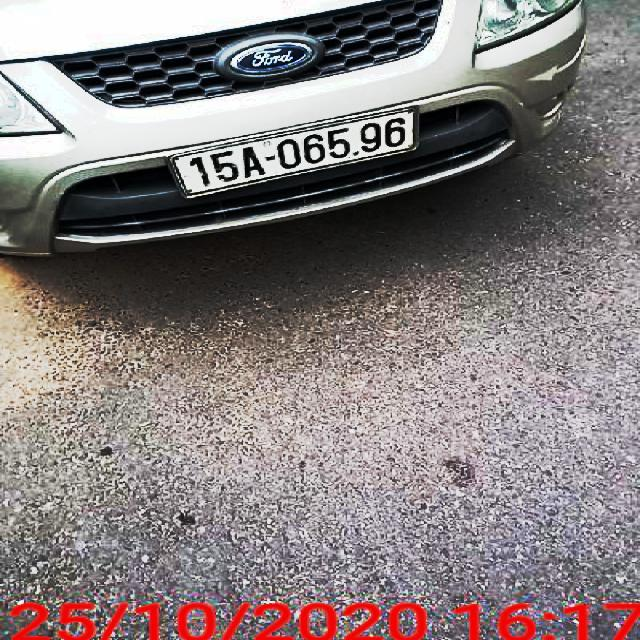license_plate: (164, 110, 417, 198)
